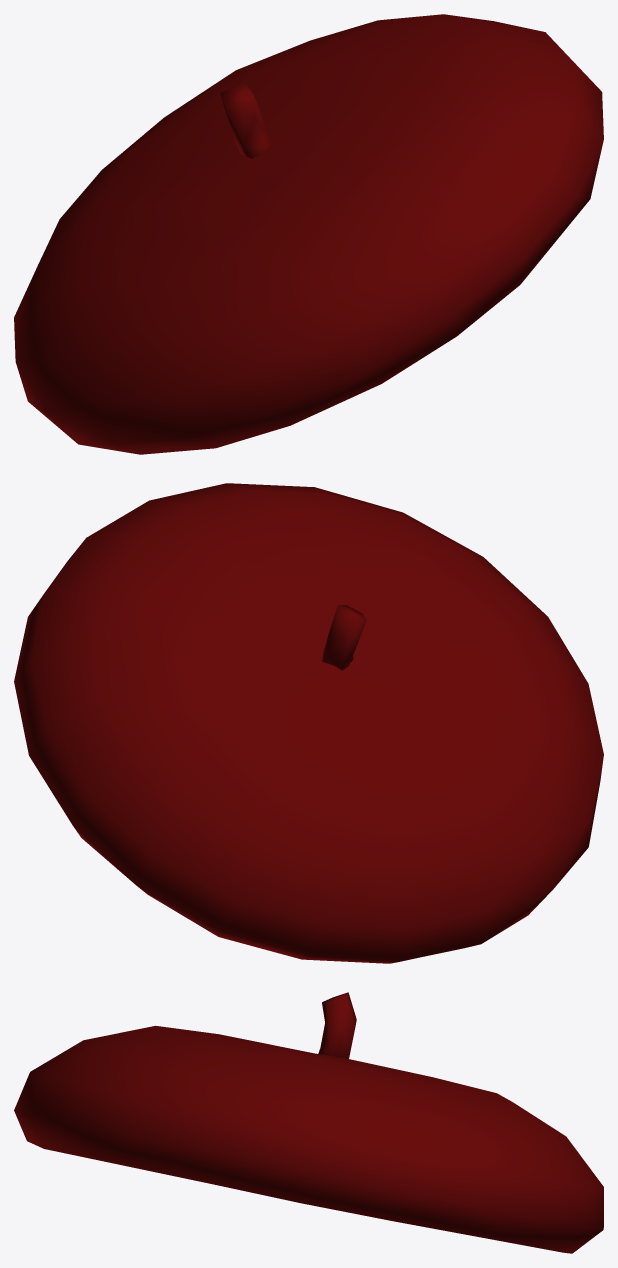
Rendered from цццeret.fbx.
3 renders of one model, top to bottom at view 1: azimuth 30°, elevation 25°; view 2: azimuth 150°, elevation 25°; view 3: azimuth 270°, elevation 25°, orthographic. The views are drawn at different scales.
Visible parts, largest first — view 1: duckcharacter; view 2: duckcharacter; view 3: duckcharacter.
Boxes of the visible parts, x1,y1,x2,y2 form: duckcharacter: (14,14,603,454); duckcharacter: (14,483,603,963); duckcharacter: (14,992,603,1253).
Size of the model in its own units: 1448 by 870 by 1533.
